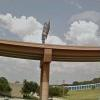Bridge: (2, 25, 99, 77)
